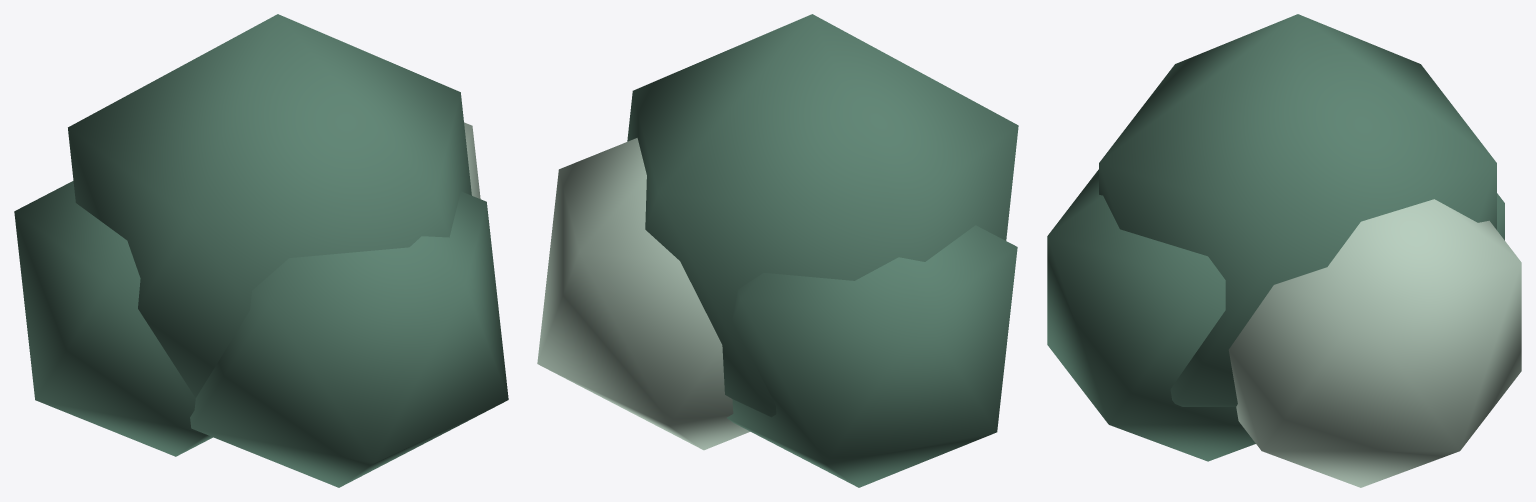
File: round-bush-large.glb
3 views of the same model, side by side, from view 1: azimuth 30°, elevation 25°; view 2: azimuth 150°, elevation 25°; view 3: azimuth 270°, elevation 25° (orthographic).
Visible parts, largest first — view 1: round-bush-large; view 2: round-bush-large; view 3: round-bush-large.
Boxes of the visible parts, <box> form: round-bush-large: <box>14,14,508,487</box>; round-bush-large: <box>537,14,1018,487</box>; round-bush-large: <box>1047,14,1521,487</box>.
Bounding box in the file's own units: 1.12 × 1.08 × 1.05.
